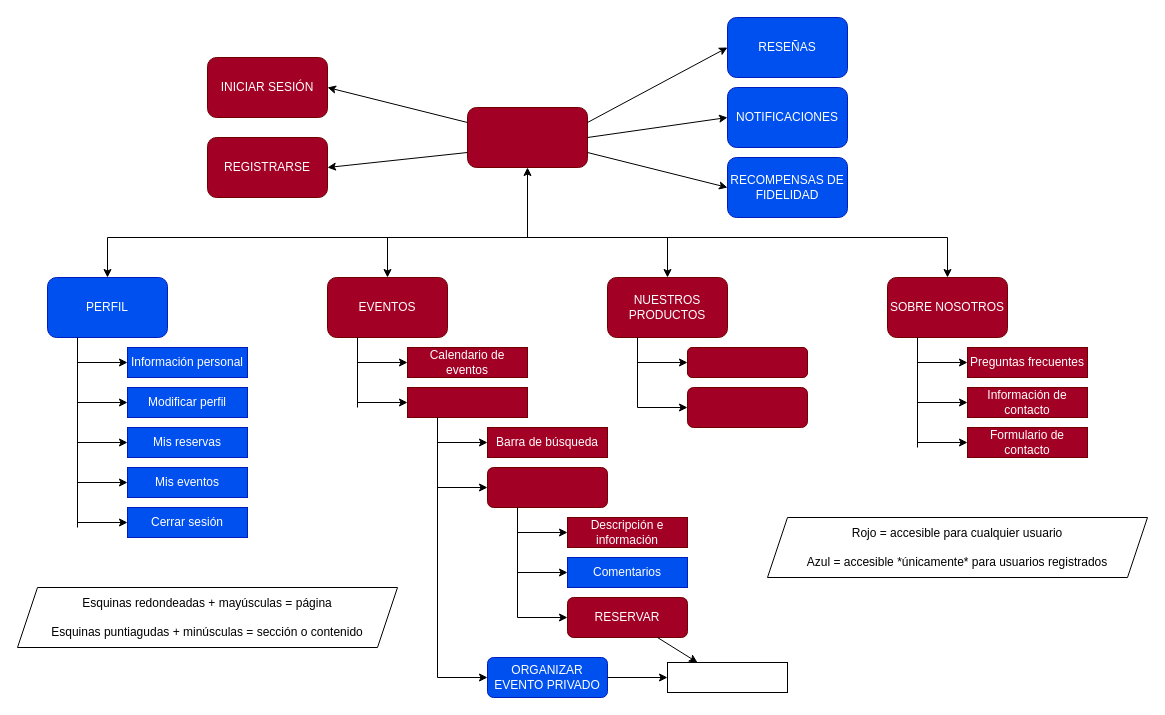
Some shapes in this 1165 by 715 pixel diagram are drawn without their labels. Each missing label, with the box of its shape:
CATÁLOGO: (686, 346, 808, 378)
Catálogo de eventos: (406, 386, 528, 418)
CÓMO DEGUSTARLOS: (686, 386, 808, 428)
DETALLES DE EVENTO: (486, 466, 608, 508)
Fomulario online: (666, 662, 788, 692)
INICIO: (466, 106, 588, 168)
